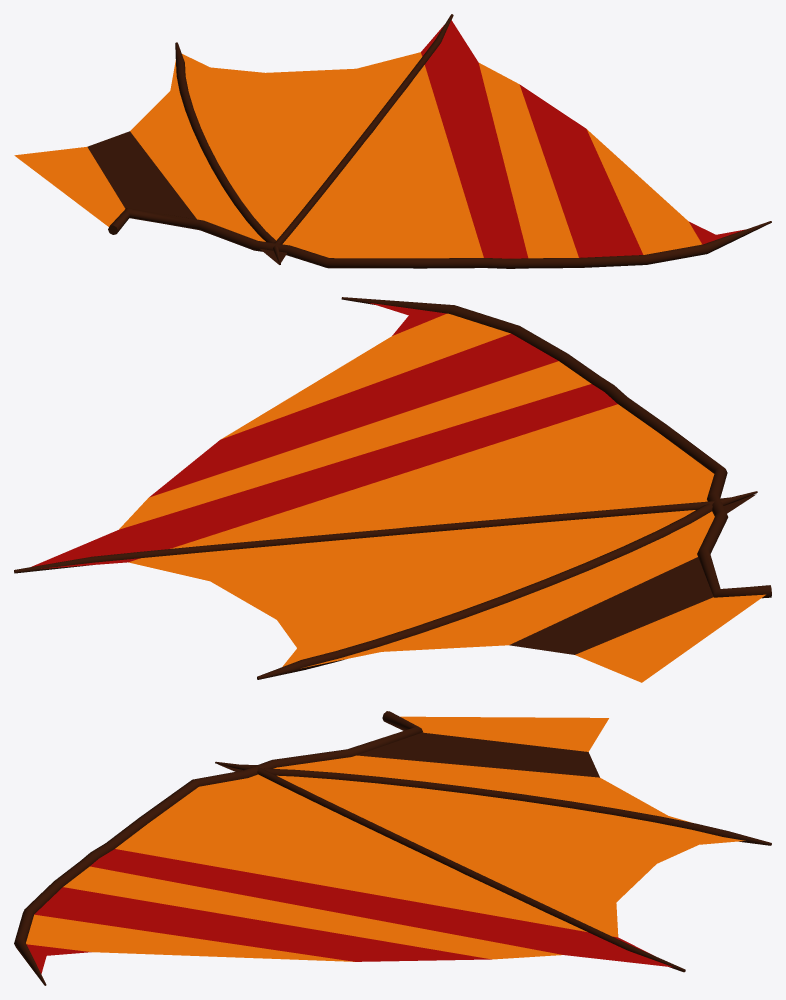
The model's file is snake wing 2.0.fbx.
3 views of the same model, one above another, from view 1: azimuth 30°, elevation 25°; view 2: azimuth 150°, elevation 25°; view 3: azimuth 270°, elevation 25° (orthographic). The views are drawn at different scales.
Parts seen in each view (by area): view 1: wings.001; view 2: wings.001; view 3: wings.001.
Boxes of the visible parts, x1,y1,x2,y2 form: wings.001: (14,14,771,268); wings.001: (14,297,771,682); wings.001: (14,711,771,985).
Bounding box in the file's own units: 451 × 8.38 × 535.
